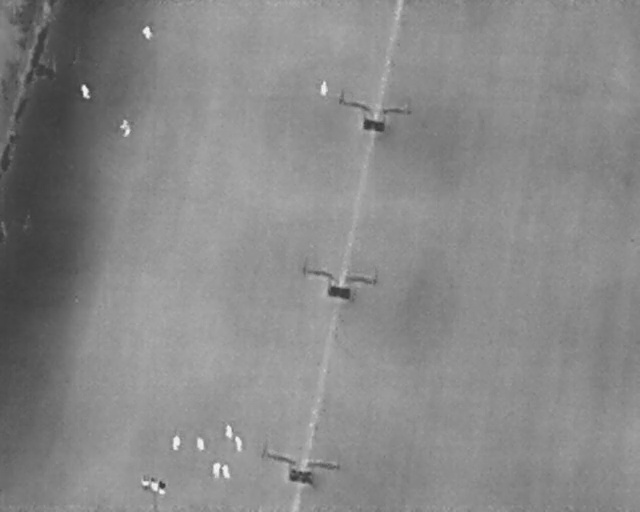Person: (119, 119, 132, 137), (143, 25, 154, 41), (81, 84, 91, 100), (320, 80, 329, 97), (172, 435, 181, 452), (234, 435, 243, 452), (225, 424, 234, 440), (212, 463, 221, 478), (222, 464, 231, 479), (197, 436, 205, 452)
